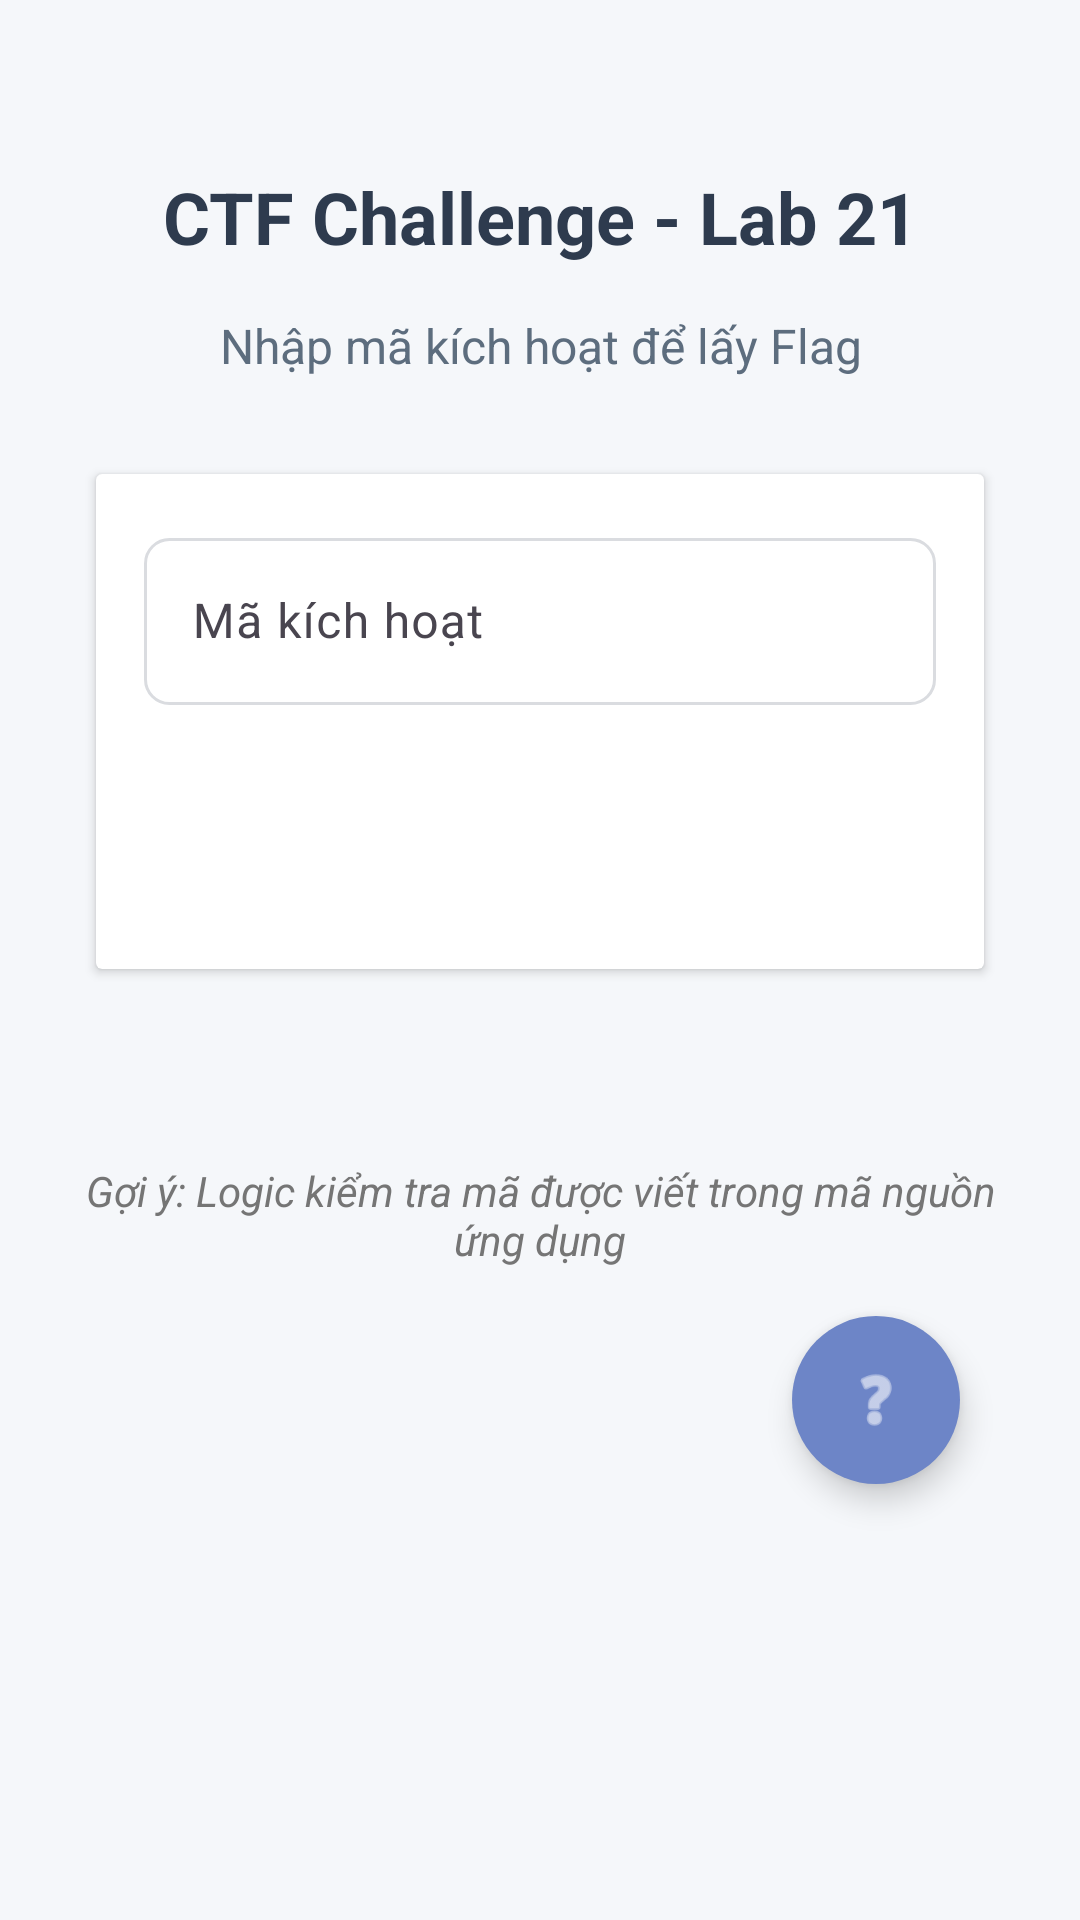

Screen size 1080 × 1920. Icon name, then its center in pixels as [x,y]:
Help: [876,1400]
